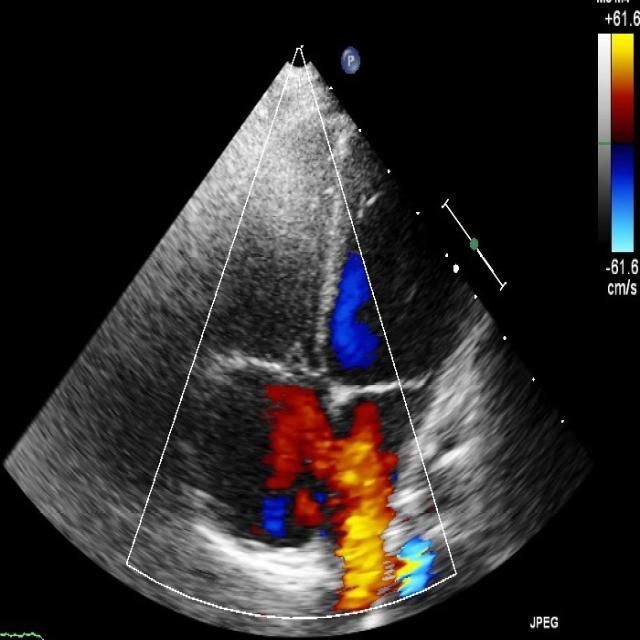ASDType2: (258, 433, 398, 490)
